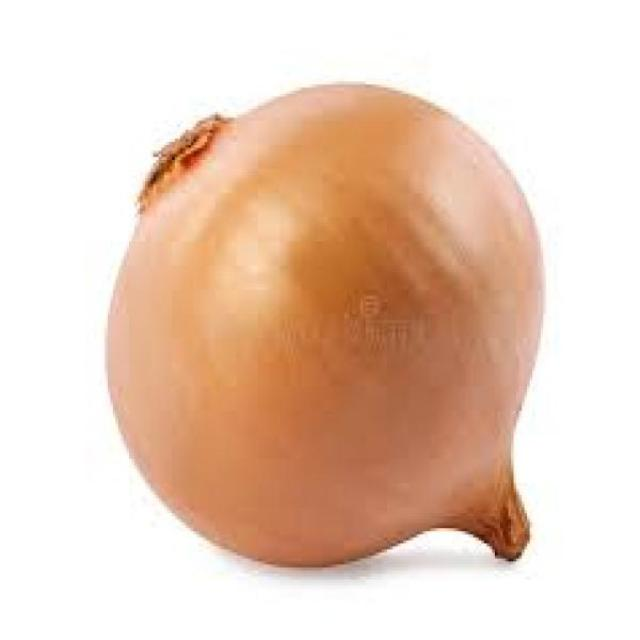Onion: (103, 83, 549, 572)
